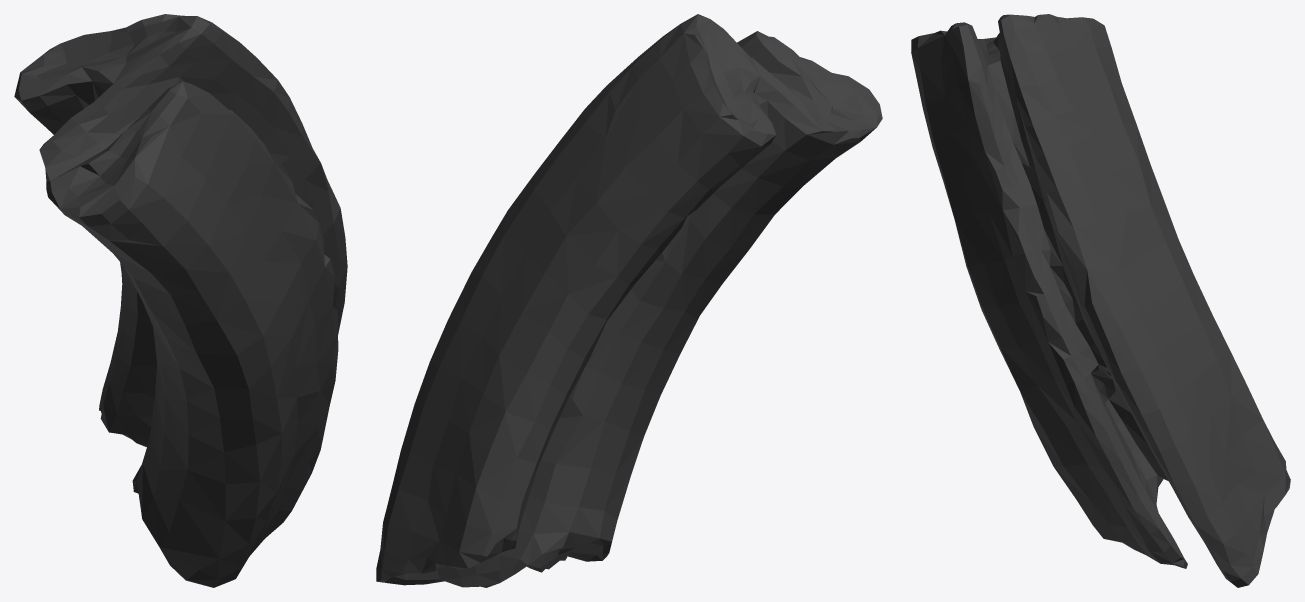
Rendered from Lower_PM_1.glb.
The picture shows the model from 3 angles, left to right: view 1: azimuth 30°, elevation 25°; view 2: azimuth 150°, elevation 25°; view 3: azimuth 270°, elevation 25°; orthographic projection. The views are drawn at different scales.
Visible parts, largest first — view 1: Lower_PM_1; view 2: Lower_PM_1; view 3: Lower_PM_1.
Boxes of the visible parts, bbox=[...] form: Lower_PM_1: bbox=[14, 14, 347, 587]; Lower_PM_1: bbox=[376, 14, 882, 587]; Lower_PM_1: bbox=[911, 14, 1290, 587].
Bounding box in the file's own units: 0.5562 × 0.8061 × 0.5642.
Materials: 1 (1 with a texture image).
